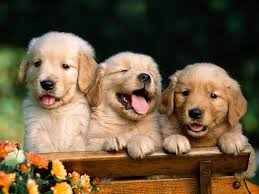Bulldog: (7, 13, 96, 152), (166, 53, 259, 175), (101, 48, 162, 159)
